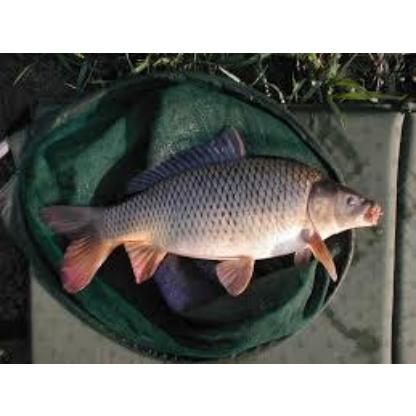ikan-mas: (45, 140, 389, 294)
